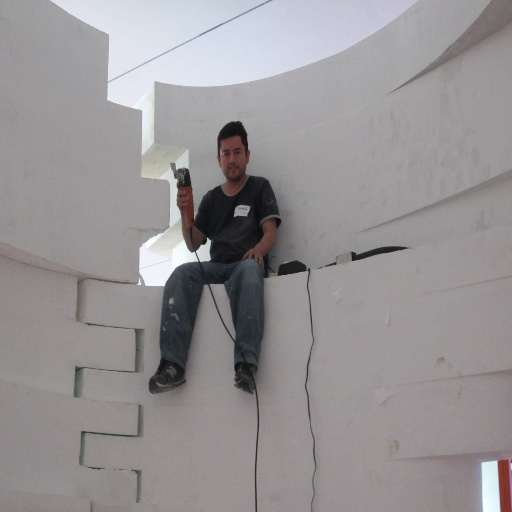hand: (240, 248, 264, 269), (174, 179, 190, 207)
